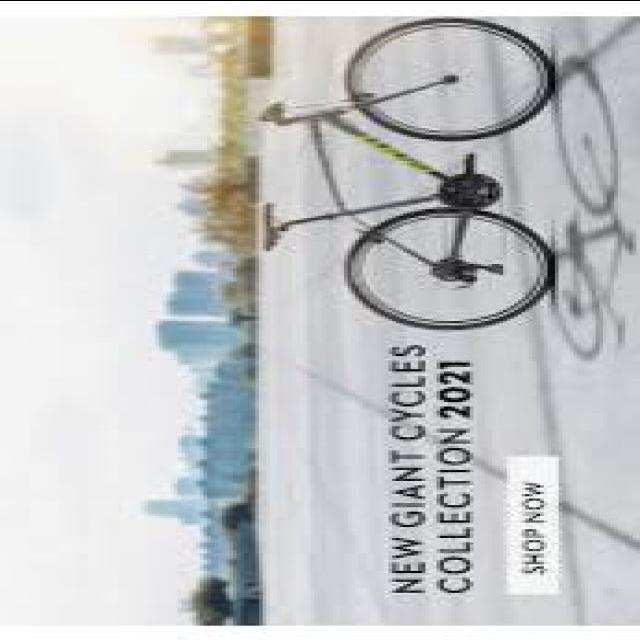bicycle: (253, 28, 564, 328)
